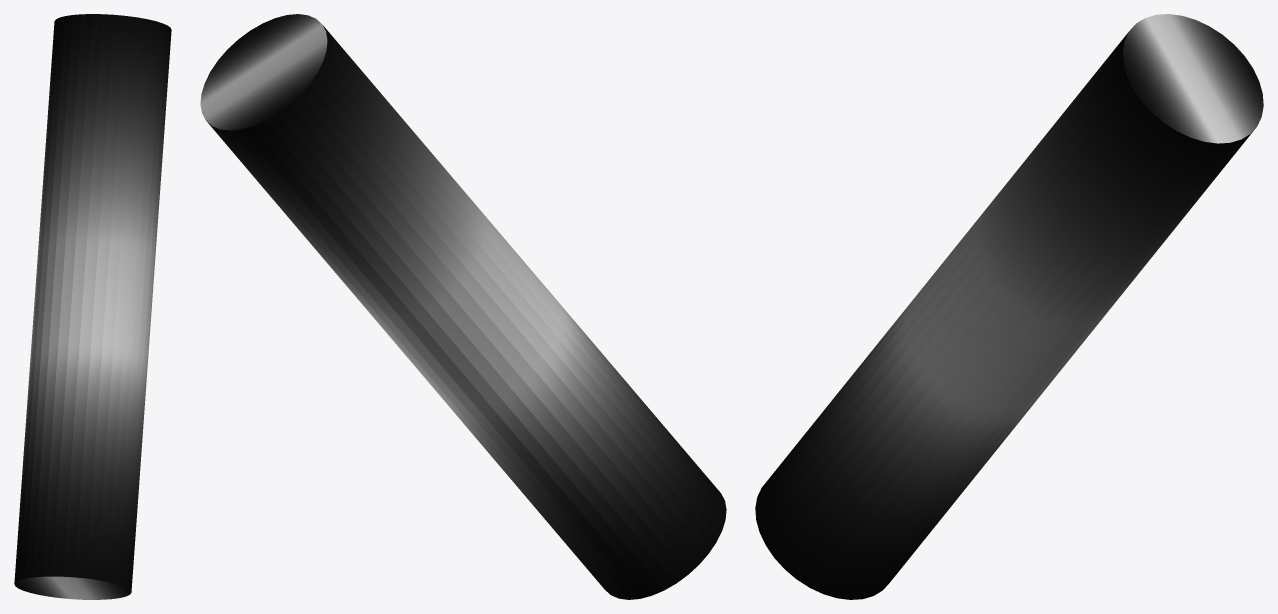
File: panelsupport2.obj
3 renders of one model, left to right at view 1: azimuth 30°, elevation 25°; view 2: azimuth 150°, elevation 25°; view 3: azimuth 270°, elevation 25°, orthographic. The views are drawn at different scales.
Visible parts, largest first — view 1: PanelSupport2_Cylinder.008; view 2: PanelSupport2_Cylinder.008; view 3: PanelSupport2_Cylinder.008.
Part boxes in pixels (x1=…): PanelSupport2_Cylinder.008: x1=14, y1=14, x2=171, y2=599; PanelSupport2_Cylinder.008: x1=200, y1=14, x2=726, y2=599; PanelSupport2_Cylinder.008: x1=755, y1=14, x2=1263, y2=599.
Size of the model in its own units: 0.00575 by 0.00983 by 0.00689.
